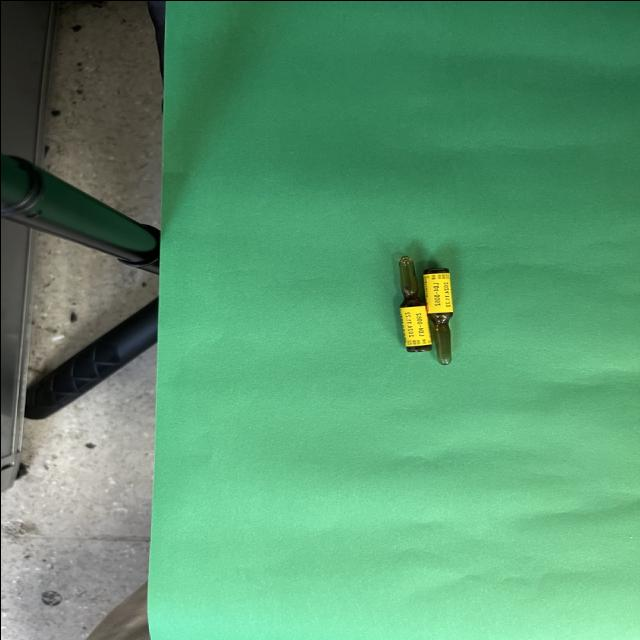Ampoules: (398, 254, 431, 352), (421, 266, 453, 364)
